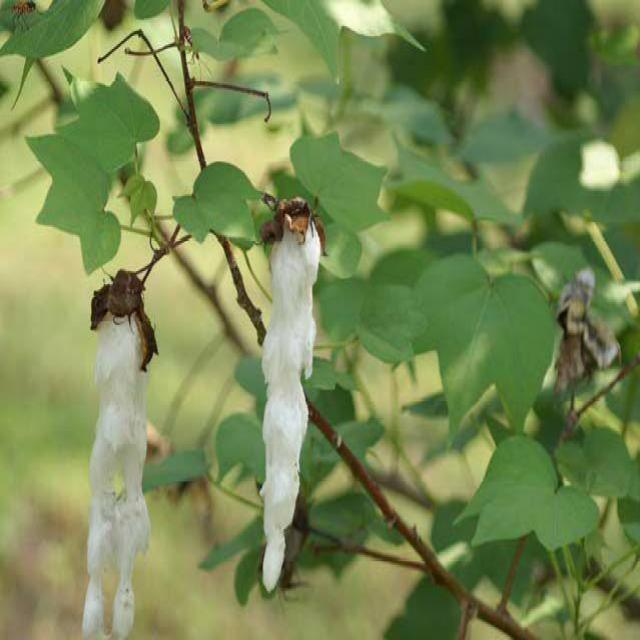Leaf: (76, 253, 169, 640), (251, 179, 333, 608)
